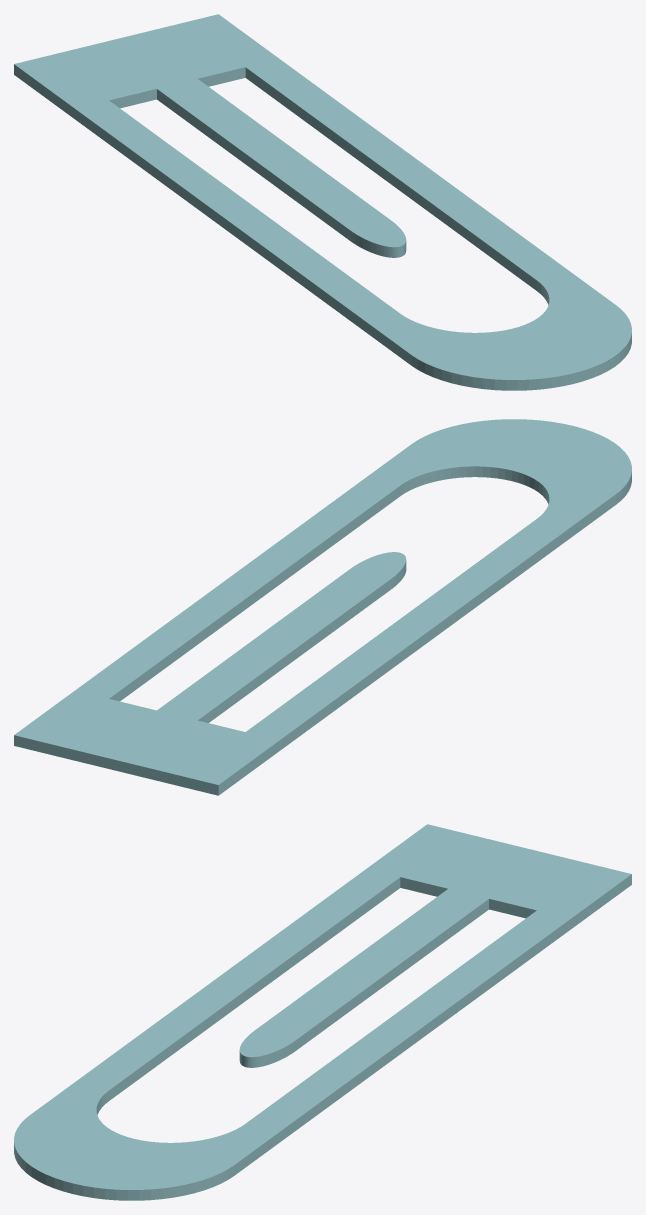
File: asset.glb
3 views of the same model, one above another, from view 1: azimuth 30°, elevation 25°; view 2: azimuth 150°, elevation 25°; view 3: azimuth 330°, elevation 25° (orthographic).
Parts seen in each view (by area): view 1: Mesh_Mesh_head_geo.001_lambert2SG.001; view 2: Mesh_Mesh_head_geo.001_lambert2SG.001; view 3: Mesh_Mesh_head_geo.001_lambert2SG.001.
Part boxes in pixels (bbox=[...]): Mesh_Mesh_head_geo.001_lambert2SG.001: bbox=[14, 14, 631, 390]; Mesh_Mesh_head_geo.001_lambert2SG.001: bbox=[14, 419, 631, 795]; Mesh_Mesh_head_geo.001_lambert2SG.001: bbox=[14, 824, 631, 1200].
Bounding box in the file's own units: 30 × 1.5 × 116.
